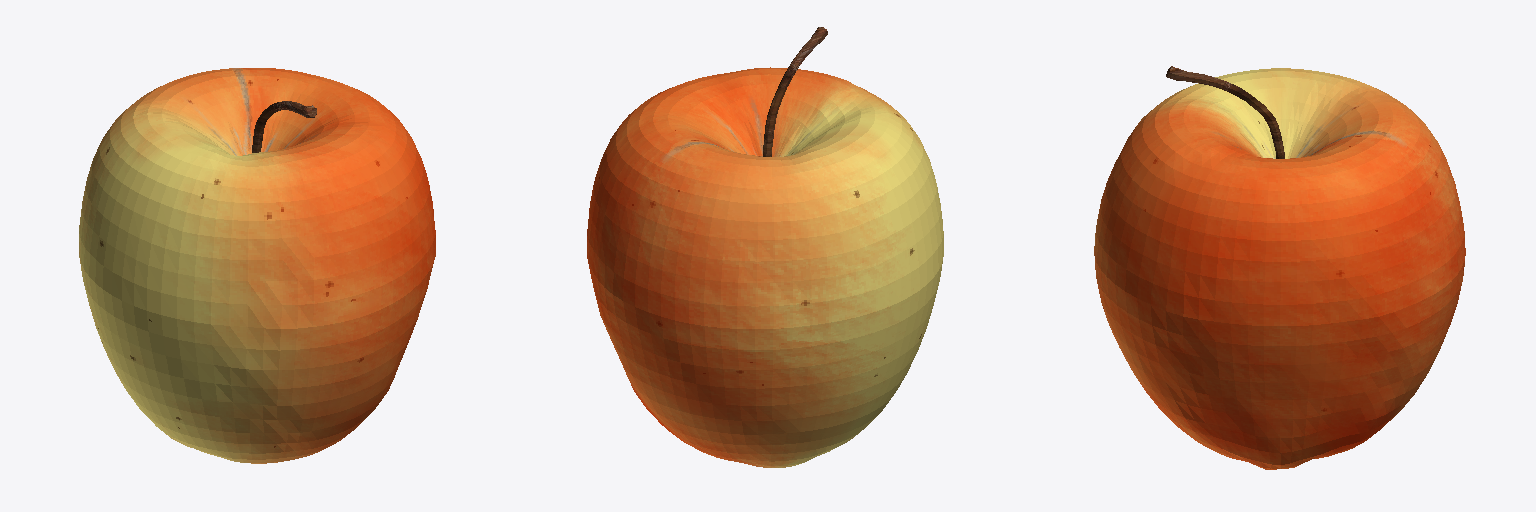
3 renders of one model, left to right at view 1: azimuth 30°, elevation 25°; view 2: azimuth 150°, elevation 25°; view 3: azimuth 270°, elevation 25°, orthographic.
Parts seen in each view (by area): view 1: Object.1, Object.2; view 2: Object.1, Object.2; view 3: Object.1, Object.2.
Boxes of the visible parts, x1,y1,x2,y2 form: Object.1: [79, 68, 435, 463]; Object.2: [252, 101, 316, 152]; Object.1: [587, 67, 943, 467]; Object.2: [763, 27, 827, 156]; Object.1: [1094, 68, 1465, 469]; Object.2: [1166, 66, 1284, 158].
Bounding box in the file's own units: 65.38 × 77.56 × 68.95.
Materials: 2 (2 with a texture image).